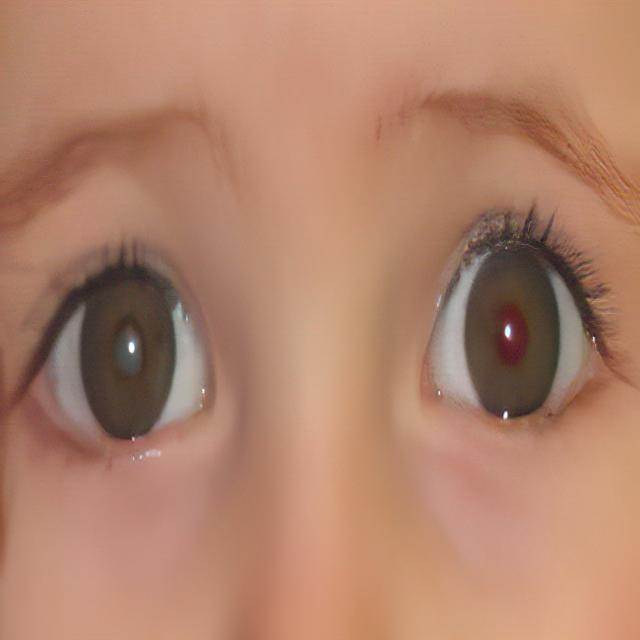reflexo-alterado: (26, 230, 214, 464)
reflexo-normal: (419, 203, 593, 452)
